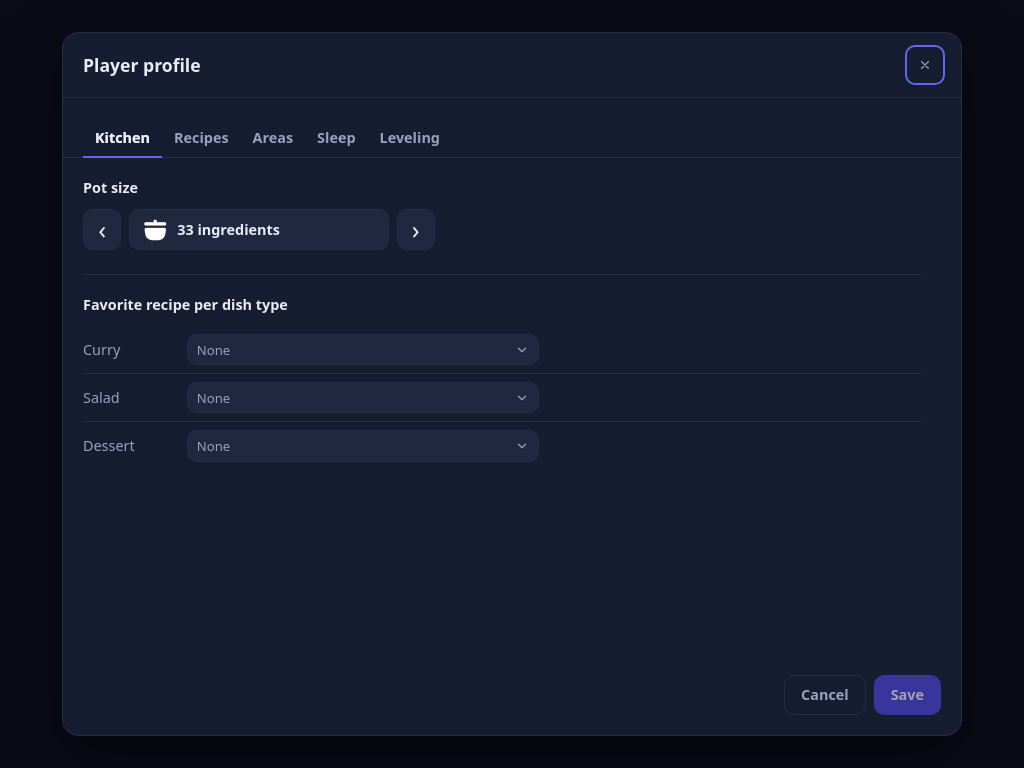
Test: ProgressModal — the draft is not saved until Guardar › raises the pot in the draft without sending a PATCH
Expected: the text "33 ingredients" is shown, [177,220,280,239]
Click the button named "Bigger pot".
click(416, 230)  # box [397,209,435,250]
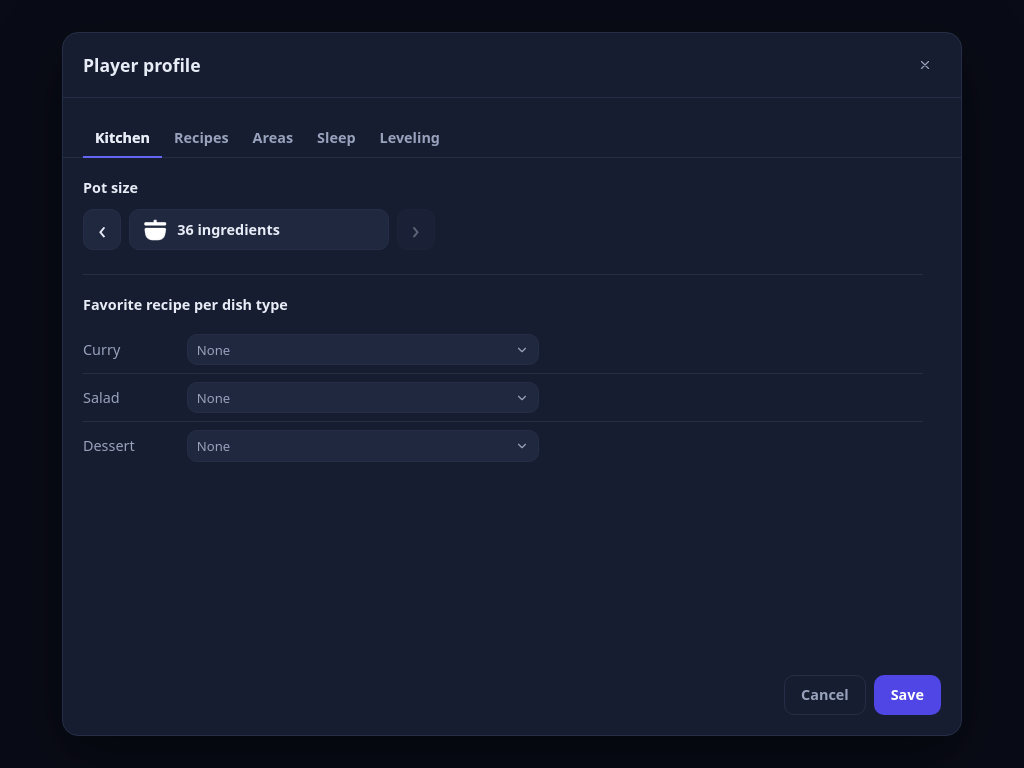
Expected: the text "36 ingredients" is shown, [177,220,280,239]
